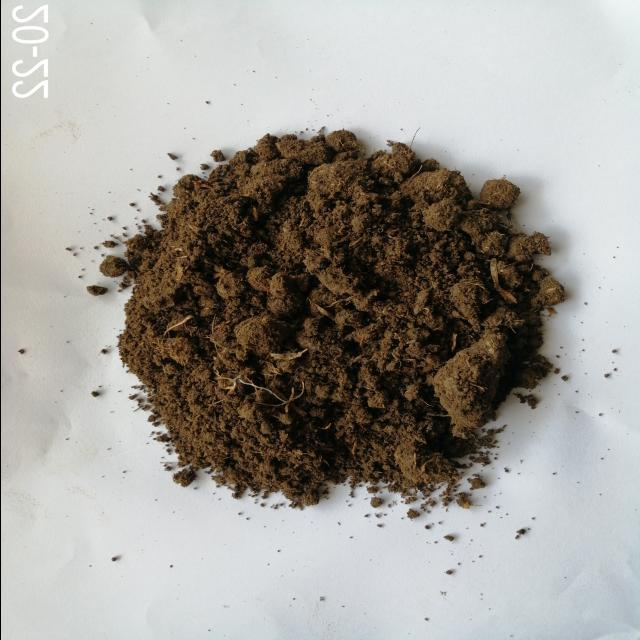soil: (148, 210, 476, 447)
